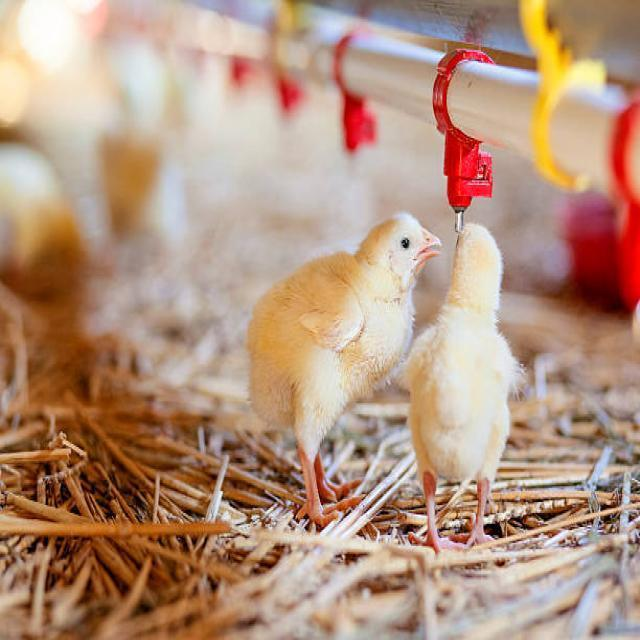Healthy: (234, 208, 449, 522), (401, 218, 542, 560)
